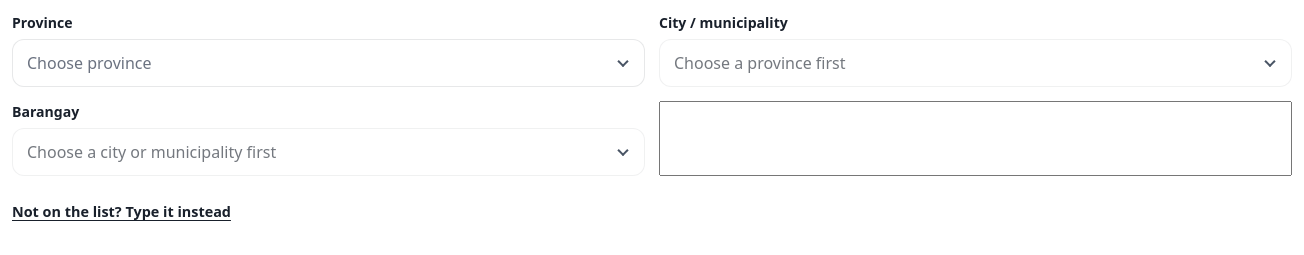
Test case: PlaceFields when the customer types › turns into text boxes on request, keeps what was chosen, and goes back to the lists
Select "Cebu" in the dropdown labelled "Province": x=328, y=63 [12,39,645,87]
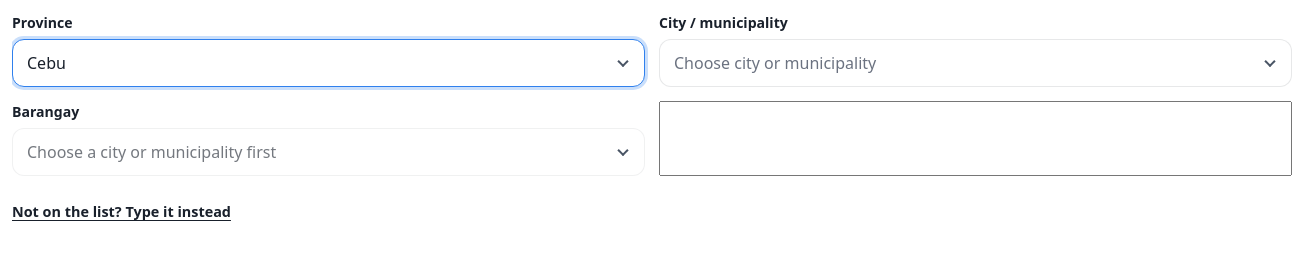
Click the button "Not on the list? Type it instead": x=122, y=212 [12,190,231,234]
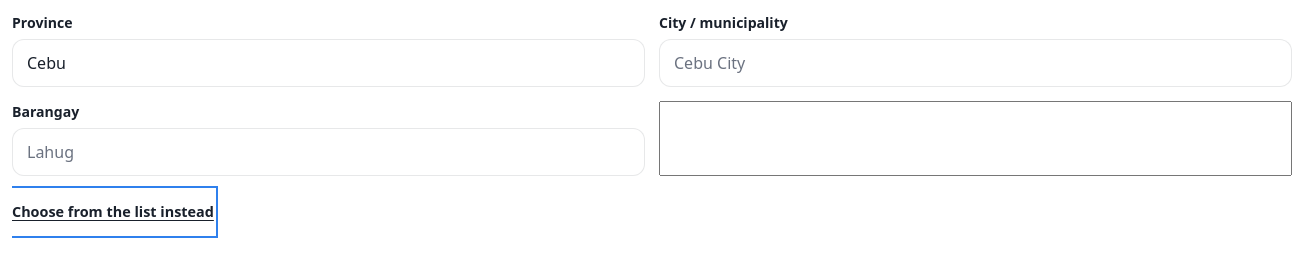
Now the field labelled "Province" holds "Cebu", box [12,39,645,87]
Now the field labelled "City / municipality" is empty
In the field labelled "City / municipality": x=976, y=63 [659,39,1292,87], type "Sogod"
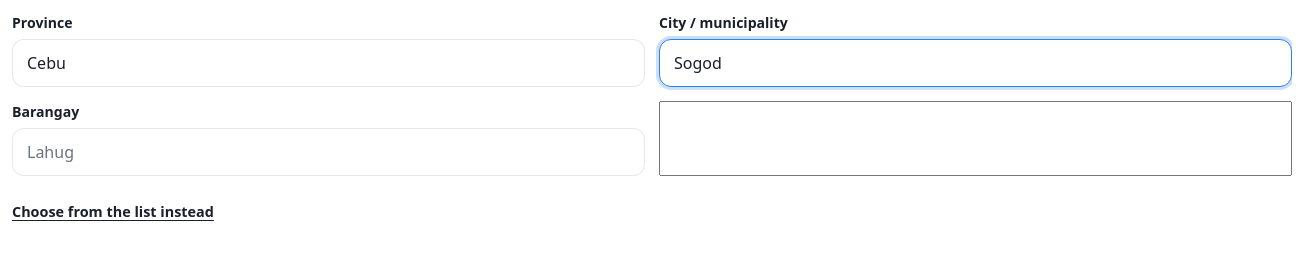
In the field labelled "Barangay": x=328, y=152 [12,128,645,176], type "Poblacion"
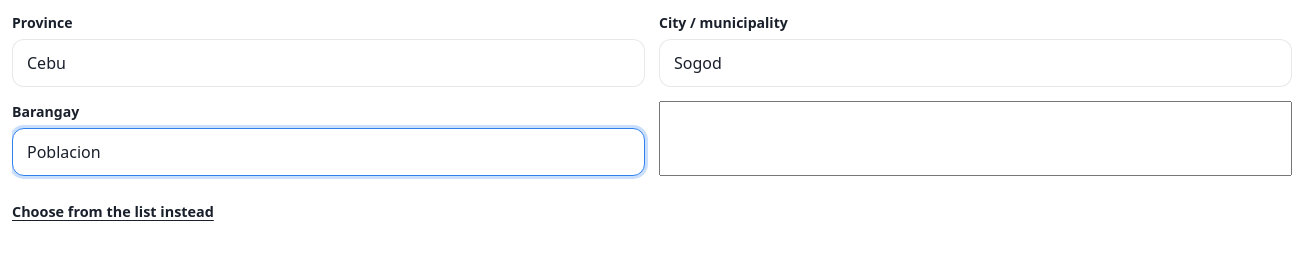
Click the button "Choose from the list instead": x=113, y=212 [12,190,214,234]
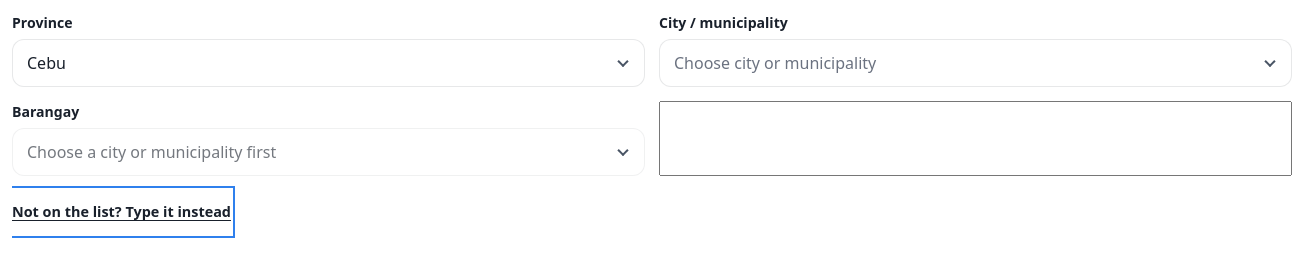
Now the dropdown labelled "Province" shows "Cebu", box [12,39,645,87]
